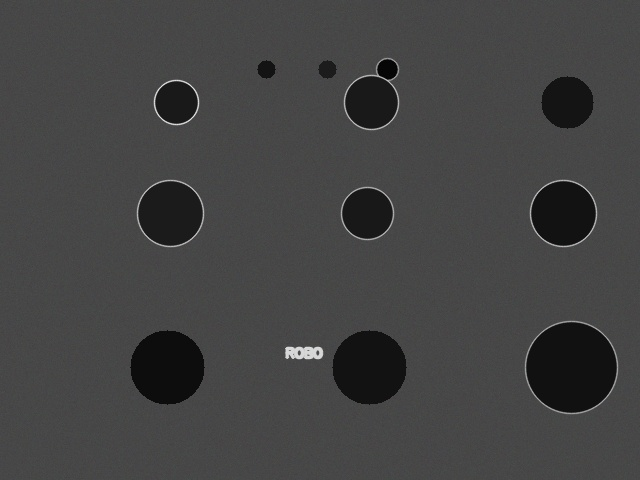hole: (525, 321, 617, 413), (130, 330, 204, 404), (332, 330, 406, 404), (137, 180, 203, 246), (530, 180, 596, 246), (344, 75, 398, 129), (541, 76, 593, 128), (341, 187, 393, 239), (154, 80, 198, 124), (376, 58, 398, 80), (257, 60, 275, 78), (318, 60, 336, 78)
